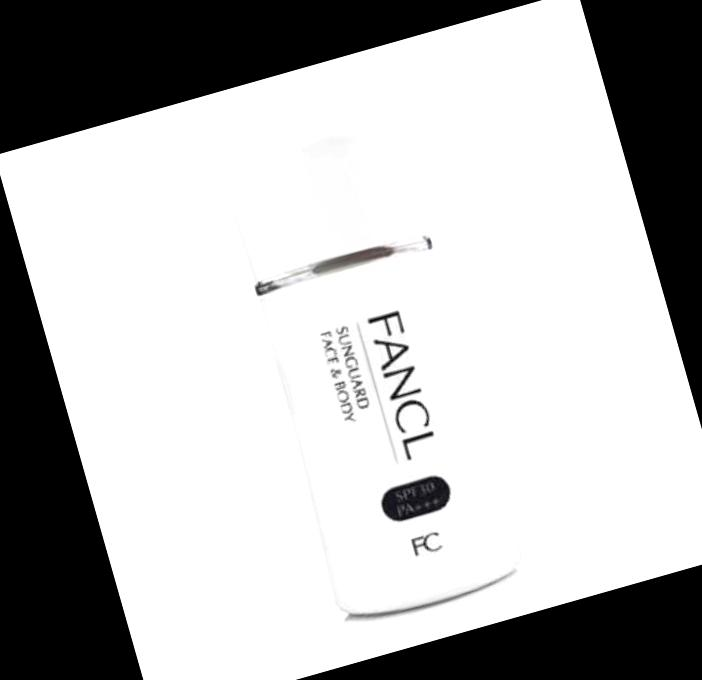cosmetic: (212, 119, 538, 630)
